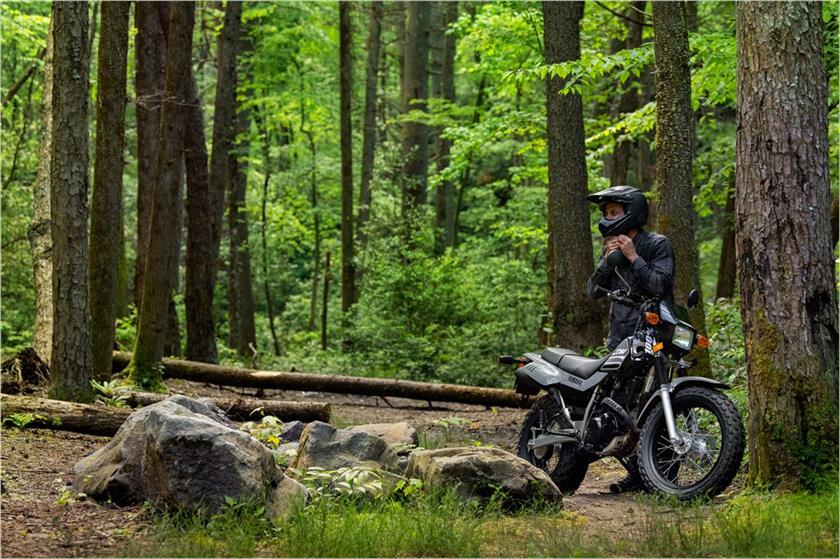motorbike: (498, 249, 748, 502)
